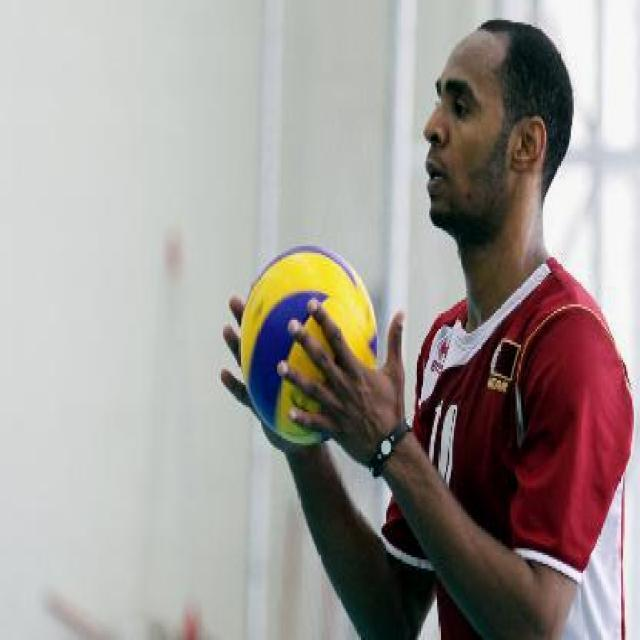volleyball: (240, 245, 378, 444)
